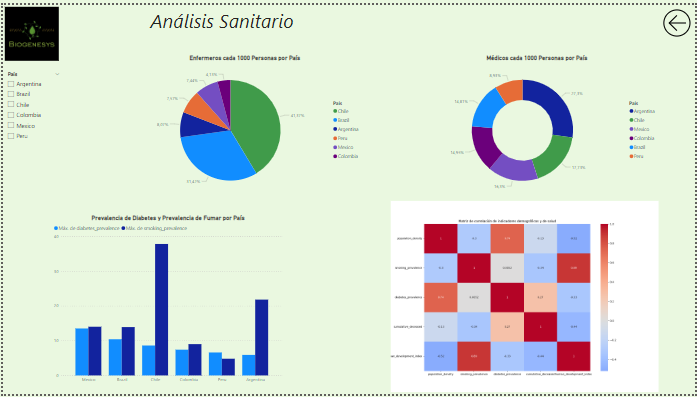

This screenshot's page, from the dashboard's own definition file:
{"tool":"powerbi","page":{"name":"SALUD","canvas":[1920,1080],"ordinal":2},"visuals":[{"type":"actionButton","box":[1826,0,94,100],"z":0},{"type":"slicer","fields":{"Values":["DatosFinales.country_name"]},"box":[0,180,170,222],"z":1000},{"type":"textbox","box":[319.4,0,577.4,100],"z":2000},{"type":"pieChart","title":"Enfermeros cada 1000 Personas por País","fields":{"Category":["DatosFinales.country_name"],"Y":["Max(DatosFinales.nurses_per_1000)"]},"box":[342.5,135,660,405],"z":3000},{"type":"donutChart","title":"Médicos cada 1000 Personas por País","fields":{"Category":["DatosFinales.country_name"],"Y":["Max(DatosFinales.physicians_per_1000)"]},"box":[1142.5,135,682.5,405],"z":4000},{"type":"clusteredColumnChart","title":"Prevalencia de Diabetes y Prevalencia de Fumar por País","fields":{"Category":["DatosFinales.country_name"],"Y":["Max(DatosFinales.diabetes_prevalence)","Max(DatosFinales.smoking_prevalence)"]},"box":[136.2,580.9,644.7,478.7],"z":5000},{"type":"pythonVisual","fields":{"Values":["Sum(DatosFinales.population)"]},"box":[1024.1,539.7,848.3,541.4],"z":6000},{"type":"image","box":[0,0,160,160],"z":7000}]}

Visuals, with their boxes in screenshot pixels (x1, y1, x2, y2), scaled from the page's 1920x1080 canvas onto the 697x397 screenshot:
actionButton: x1=663, y1=0, x2=696, y2=37
slicer - DatosFinales.country_name: x1=0, y1=66, x2=62, y2=148
textbox: x1=116, y1=0, x2=326, y2=37
"Enfermeros cada 1000 Personas por País" pieChart: x1=124, y1=50, x2=364, y2=198
"Médicos cada 1000 Personas por País" donutChart: x1=415, y1=50, x2=663, y2=198
"Prevalencia de Diabetes y Prevalencia de Fumar por País" clusteredColumnChart: x1=49, y1=214, x2=283, y2=390
pythonVisual - Sum(DatosFinales.population): x1=372, y1=198, x2=680, y2=396
image: x1=0, y1=0, x2=58, y2=59
